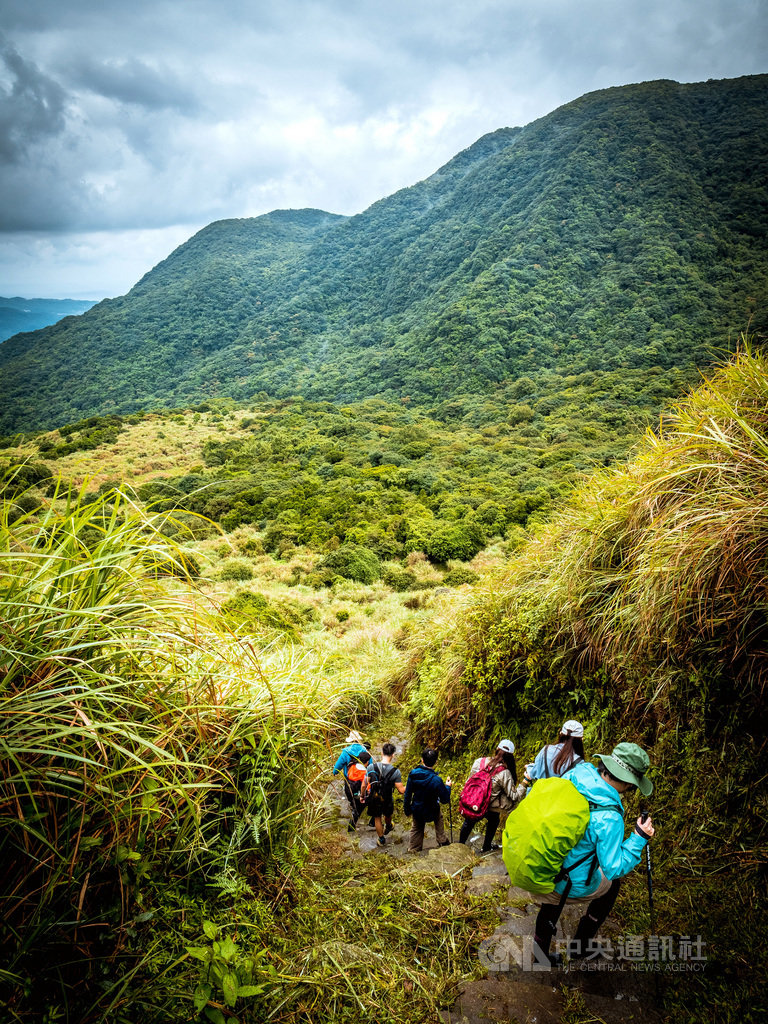people: (505, 747, 652, 951), (454, 743, 512, 844), (404, 752, 455, 849), (371, 738, 400, 841), (536, 722, 584, 772), (342, 749, 368, 822)
